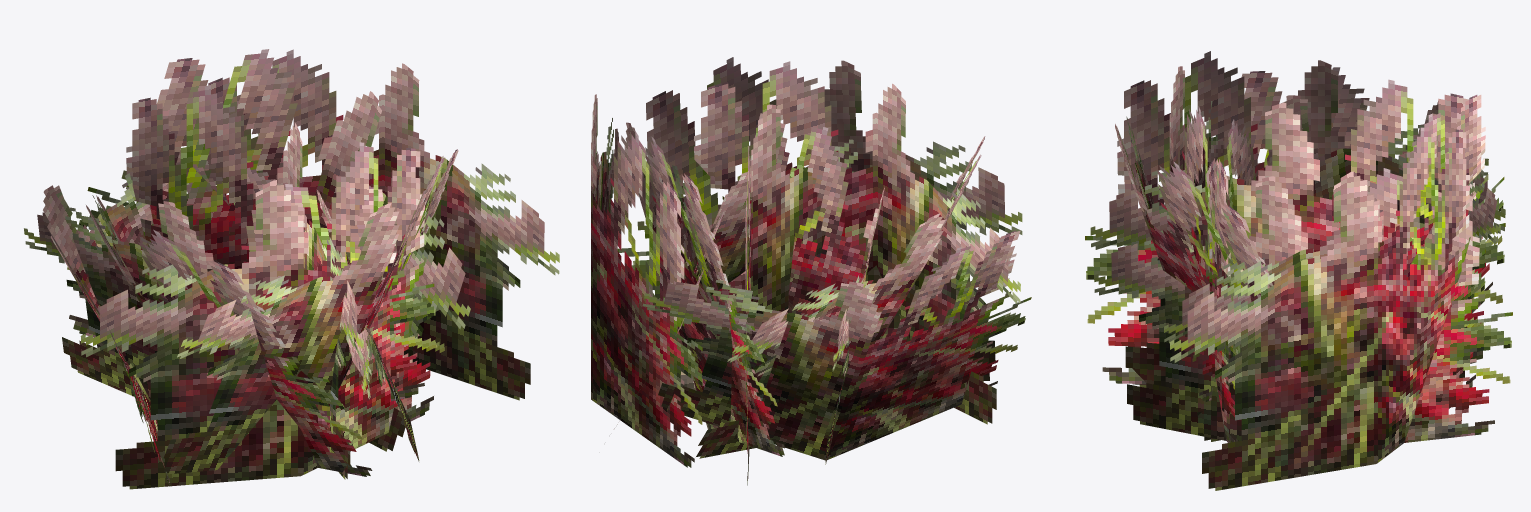
Rendered from Coral Bells.fbx.
3 renders of one model, left to right at view 1: azimuth 30°, elevation 25°; view 2: azimuth 150°, elevation 25°; view 3: azimuth 270°, elevation 25°, orthographic.
Visible parts, largest first — view 1: Coral Bells; view 2: Coral Bells; view 3: Coral Bells.
Part boxes in pixels (box(x1,y1,x2,y2)): Coral Bells: box(24, 49, 559, 489); Coral Bells: box(591, 57, 1031, 485); Coral Bells: box(1085, 51, 1512, 490).
Bounding box in the file's own units: 0.4802 × 0.3666 × 0.4031.
1 material, 1 textured.
